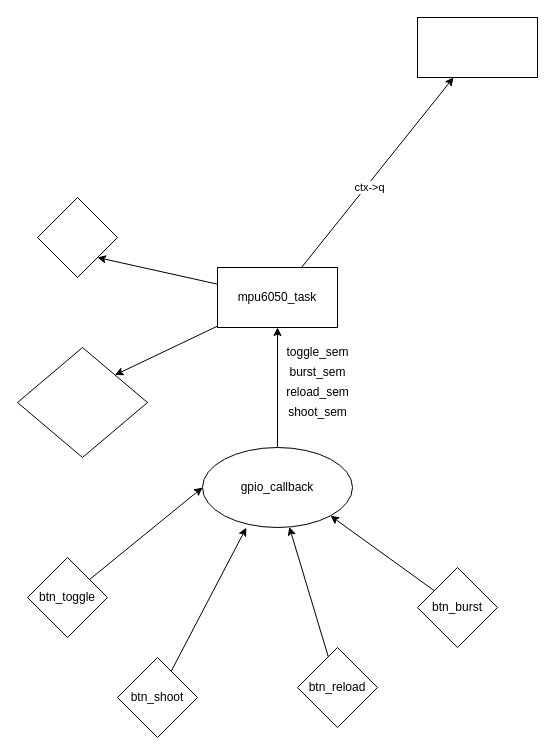
This 555x755 diagram has some shape labels left out. The box of each missing label's shape, as (x1, y1, x2, y2) in pixels:
LED_STATUS_GPIO: (16, 346, 148, 458)
mpu6050: (36, 196, 118, 278)
uart_task: (416, 16, 538, 78)
